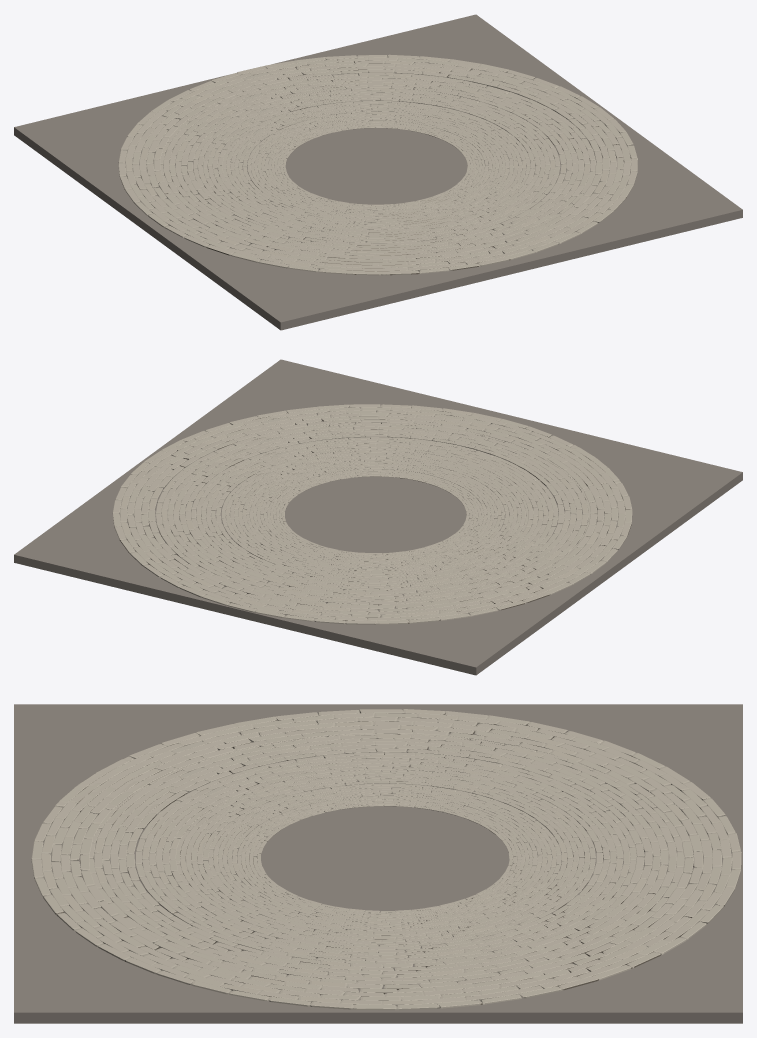
Rendered from LOGICGARDEN.fbx.
3 renders of one model, top to bottom at view 1: azimuth 30°, elevation 25°; view 2: azimuth 150°, elevation 25°; view 3: azimuth 270°, elevation 25°, orthographic. The views are drawn at different scales.
Visible parts, largest first — view 1: Floor; view 2: Floor; view 3: Floor.
Boxes of the visible parts, <box> form: Floor: <box>14,14,742,330</box>; Floor: <box>14,359,742,675</box>; Floor: <box>14,704,742,1023</box>.
Size of the model in its own units: 6000 by 116 by 6000.
